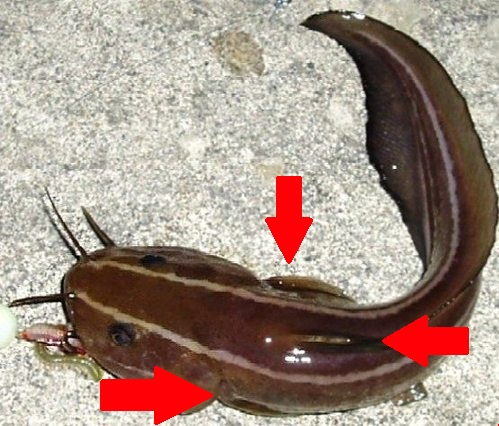gonzui: (29, 3, 498, 412)
